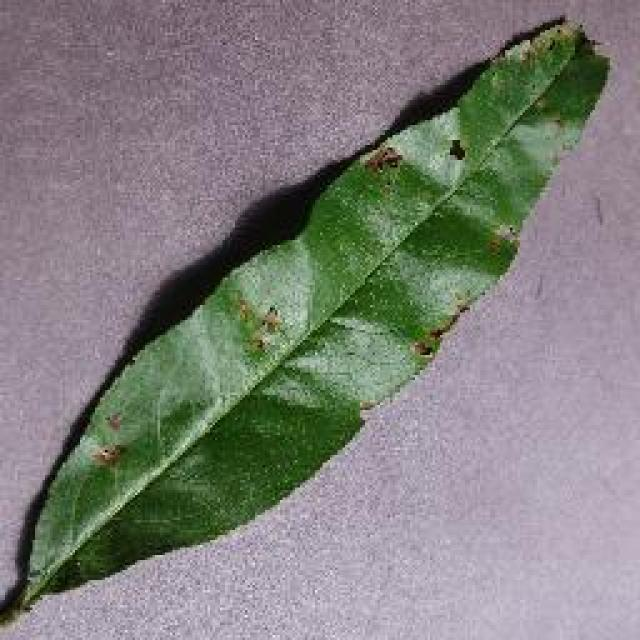Peach_Bacterial_Spot: (207, 174, 473, 398)
